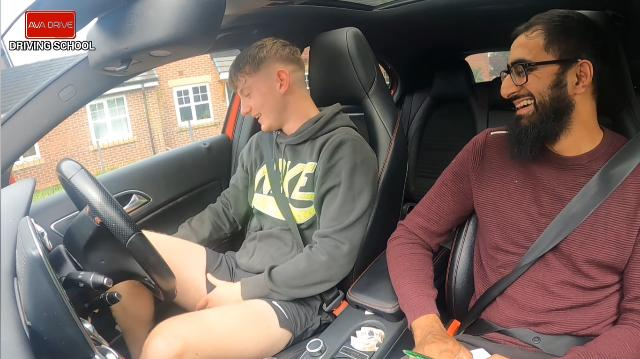seatbelt: (449, 130, 639, 354), (176, 125, 394, 307)
